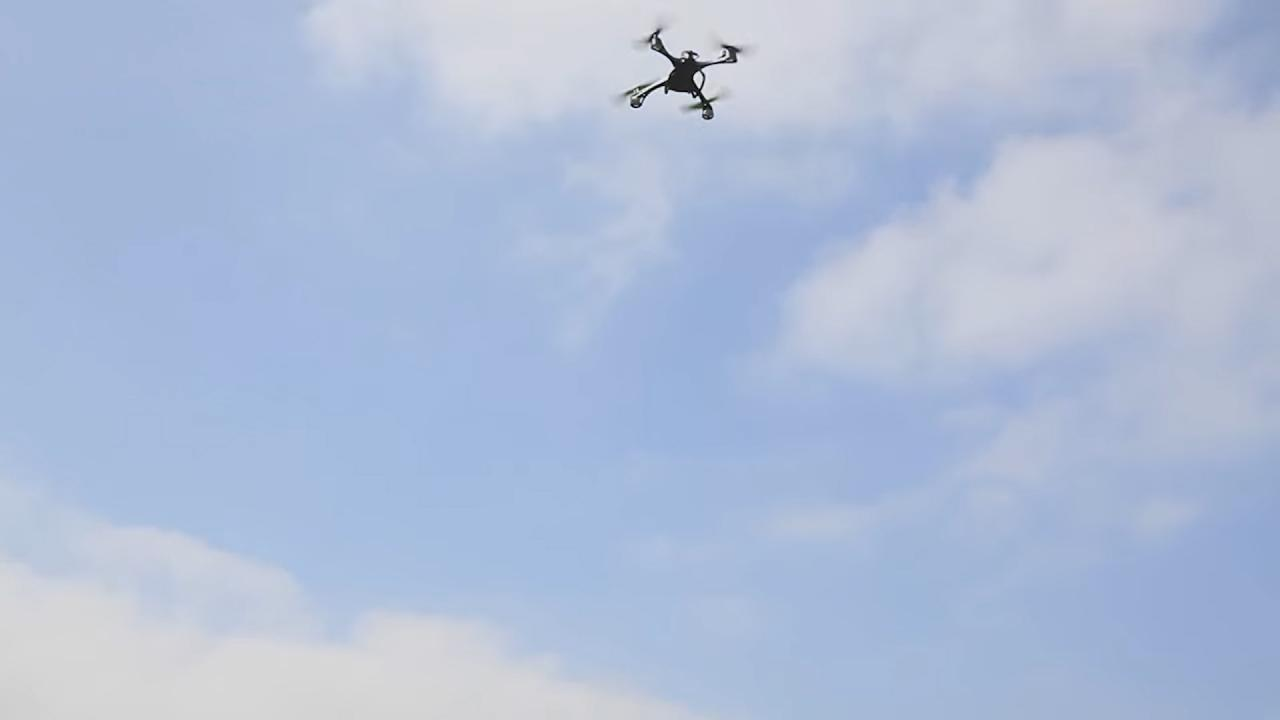Drone: (604, 10, 767, 127)
